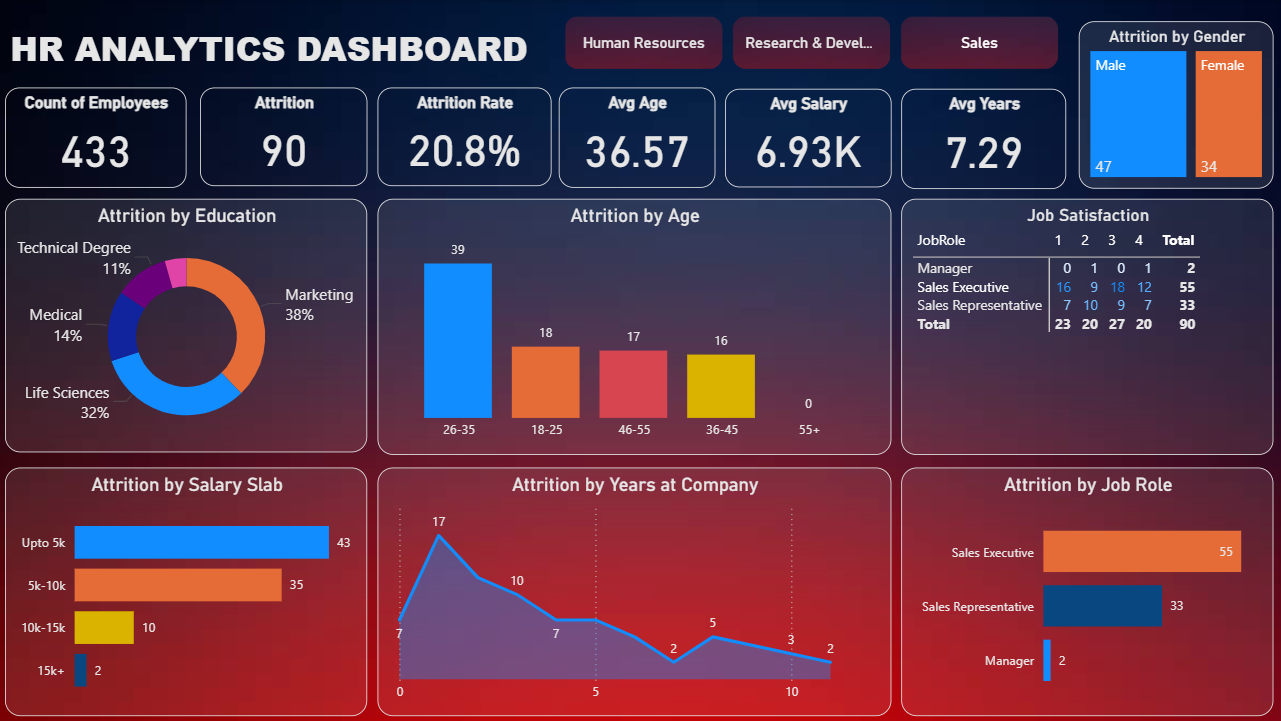

What the dashboard file says about the page in this screenshot:
{"tool":"powerbi","page":{"name":"Page 1","canvas":[1280,720],"ordinal":0},"visuals":[{"type":"card","title":"Count of Employees","fields":{"Values":["CountNonNull(HR_Analytics.EmpID)"]},"box":[9.7,84.5,174.9,96.5],"z":0},{"type":"card","title":"Attrition","fields":{"Values":["Sum(HR_Analytics.AttritionCount)"]},"box":[197.9,84.5,161.7,95.3],"z":1000},{"type":"card","title":"Attrition Rate","fields":{"Values":["HR_Analytics.Attrition Rate"]},"box":[369.2,84.5,167.7,95.3],"z":2000},{"type":"card","title":"Avg Age","fields":{"Values":["Avg(HR_Analytics.Age)"]},"box":[544.1,84.5,150.8,96.5],"z":3000},{"type":"card","title":"Avg Salary","fields":{"Values":["Avg(HR_Analytics.MonthlyIncome)"]},"box":[704.6,85.7,160.5,95.3],"z":4000},{"type":"card","title":"Avg Years","fields":{"Values":["Avg(HR_Analytics.YearsAtCompany)"]},"box":[874.7,85.7,159.3,96.5],"z":5000},{"type":"donutChart","title":"Attrition by Education","fields":{"Category":["HR_Analytics.EducationField"],"Y":["Sum(HR_Analytics.AttritionCount)"]},"box":[9.7,191.8,349.9,244.9],"z":6000},{"type":"columnChart","title":"Attrition by Age","fields":{"Y":["Sum(HR_Analytics.AttritionCount)"],"Category":["HR_Analytics.AgeGroup"]},"box":[369.2,191.8,495.8,247.3],"z":7000},{"type":"pivotTable","title":"Job Satisfaction","fields":{"Rows":["HR_Analytics.JobRole"],"Columns":["HR_Analytics.JobSatisfaction"],"Values":["Sum(HR_Analytics.AttritionCount)"]},"box":[874.7,191.8,359.5,247.3],"z":8000},{"type":"barChart","title":"Attrition by Salary Slab","fields":{"Category":["HR_Analytics.SalarySlab"],"Y":["Sum(HR_Analytics.AttritionCount)"]},"box":[9.7,451.2,349.9,240.1],"z":9000},{"type":"barChart","title":"Attrition by Job Role","fields":{"Category":["HR_Analytics.JobRole"],"Y":["Sum(HR_Analytics.AttritionCount)"]},"box":[874.7,451.2,359.5,240.1],"z":10000},{"type":"areaChart","title":"Attrition by Years at Company","fields":{"Category":["HR_Analytics.YearsAtCompany"],"Y":["Sum(HR_Analytics.AttritionCount)"]},"box":[369.2,451.2,495.8,240.1],"z":11000},{"type":"treemap","title":"Attrition by Gender","fields":{"Group":["HR_Analytics.Gender"],"Values":["Sum(HR_Analytics.AttritionCount)"]},"box":[1046,20.5,188.2,161.7],"z":12000},{"type":"textbox","box":[9.7,19.3,527.2,65.1],"z":13000},{"type":"advancedSlicerVisual","fields":{"Values":["HR_Analytics.Department"]},"box":[544.1,9.7,489.8,63.9],"z":13001}]}

Visuals, with their boxes in screenshot pixels (x1, y1, x2, y2), scaled from the page's 1280x720 canvas onto the 1281x721 screenshot:
"Count of Employees" card: 10 85 185 181
"Attrition" card: 198 85 360 180
"Attrition Rate" card: 369 85 537 180
"Avg Age" card: 545 85 695 181
"Avg Salary" card: 705 86 866 181
"Avg Years" card: 875 86 1035 182
"Attrition by Education" donutChart: 10 192 360 437
"Attrition by Age" columnChart: 369 192 866 440
"Job Satisfaction" pivotTable: 875 192 1235 440
"Attrition by Salary Slab" barChart: 10 452 360 692
"Attrition by Job Role" barChart: 875 452 1235 692
"Attrition by Years at Company" areaChart: 369 452 866 692
"Attrition by Gender" treemap: 1047 21 1235 182
textbox: 10 19 537 85
advancedSlicerVisual - HR_Analytics.Department: 545 10 1035 74
